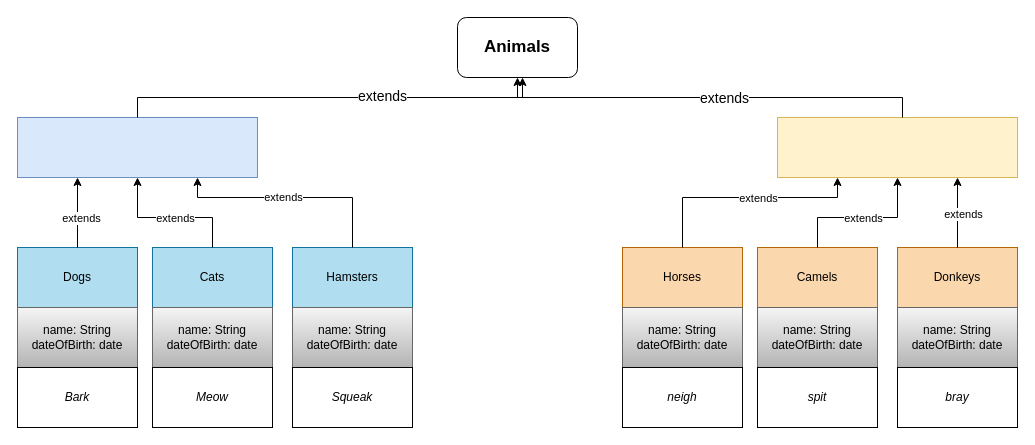
Image size: 1035x445. Some labels were removed from this diagram. Here are the shapes that lost their labels. From the top down, the centre of each, then its label:
At (137,147): "Pets".
At (897,147): "PackAnimals".
